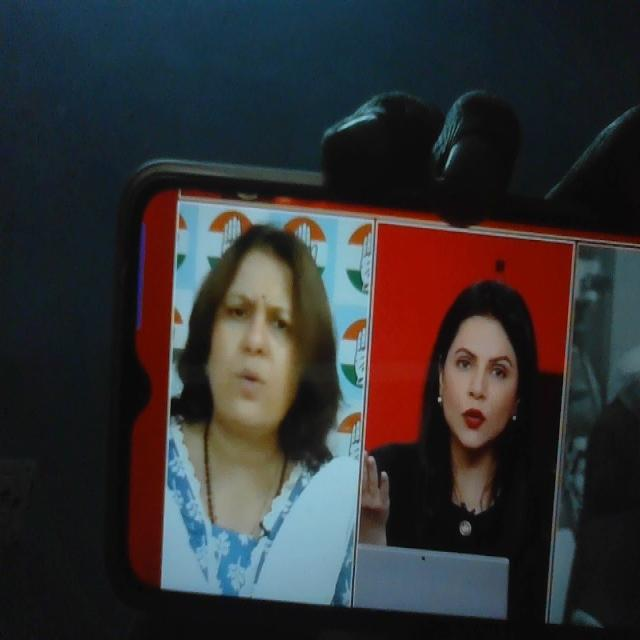fake: (200, 214, 318, 438), (427, 258, 537, 466)
